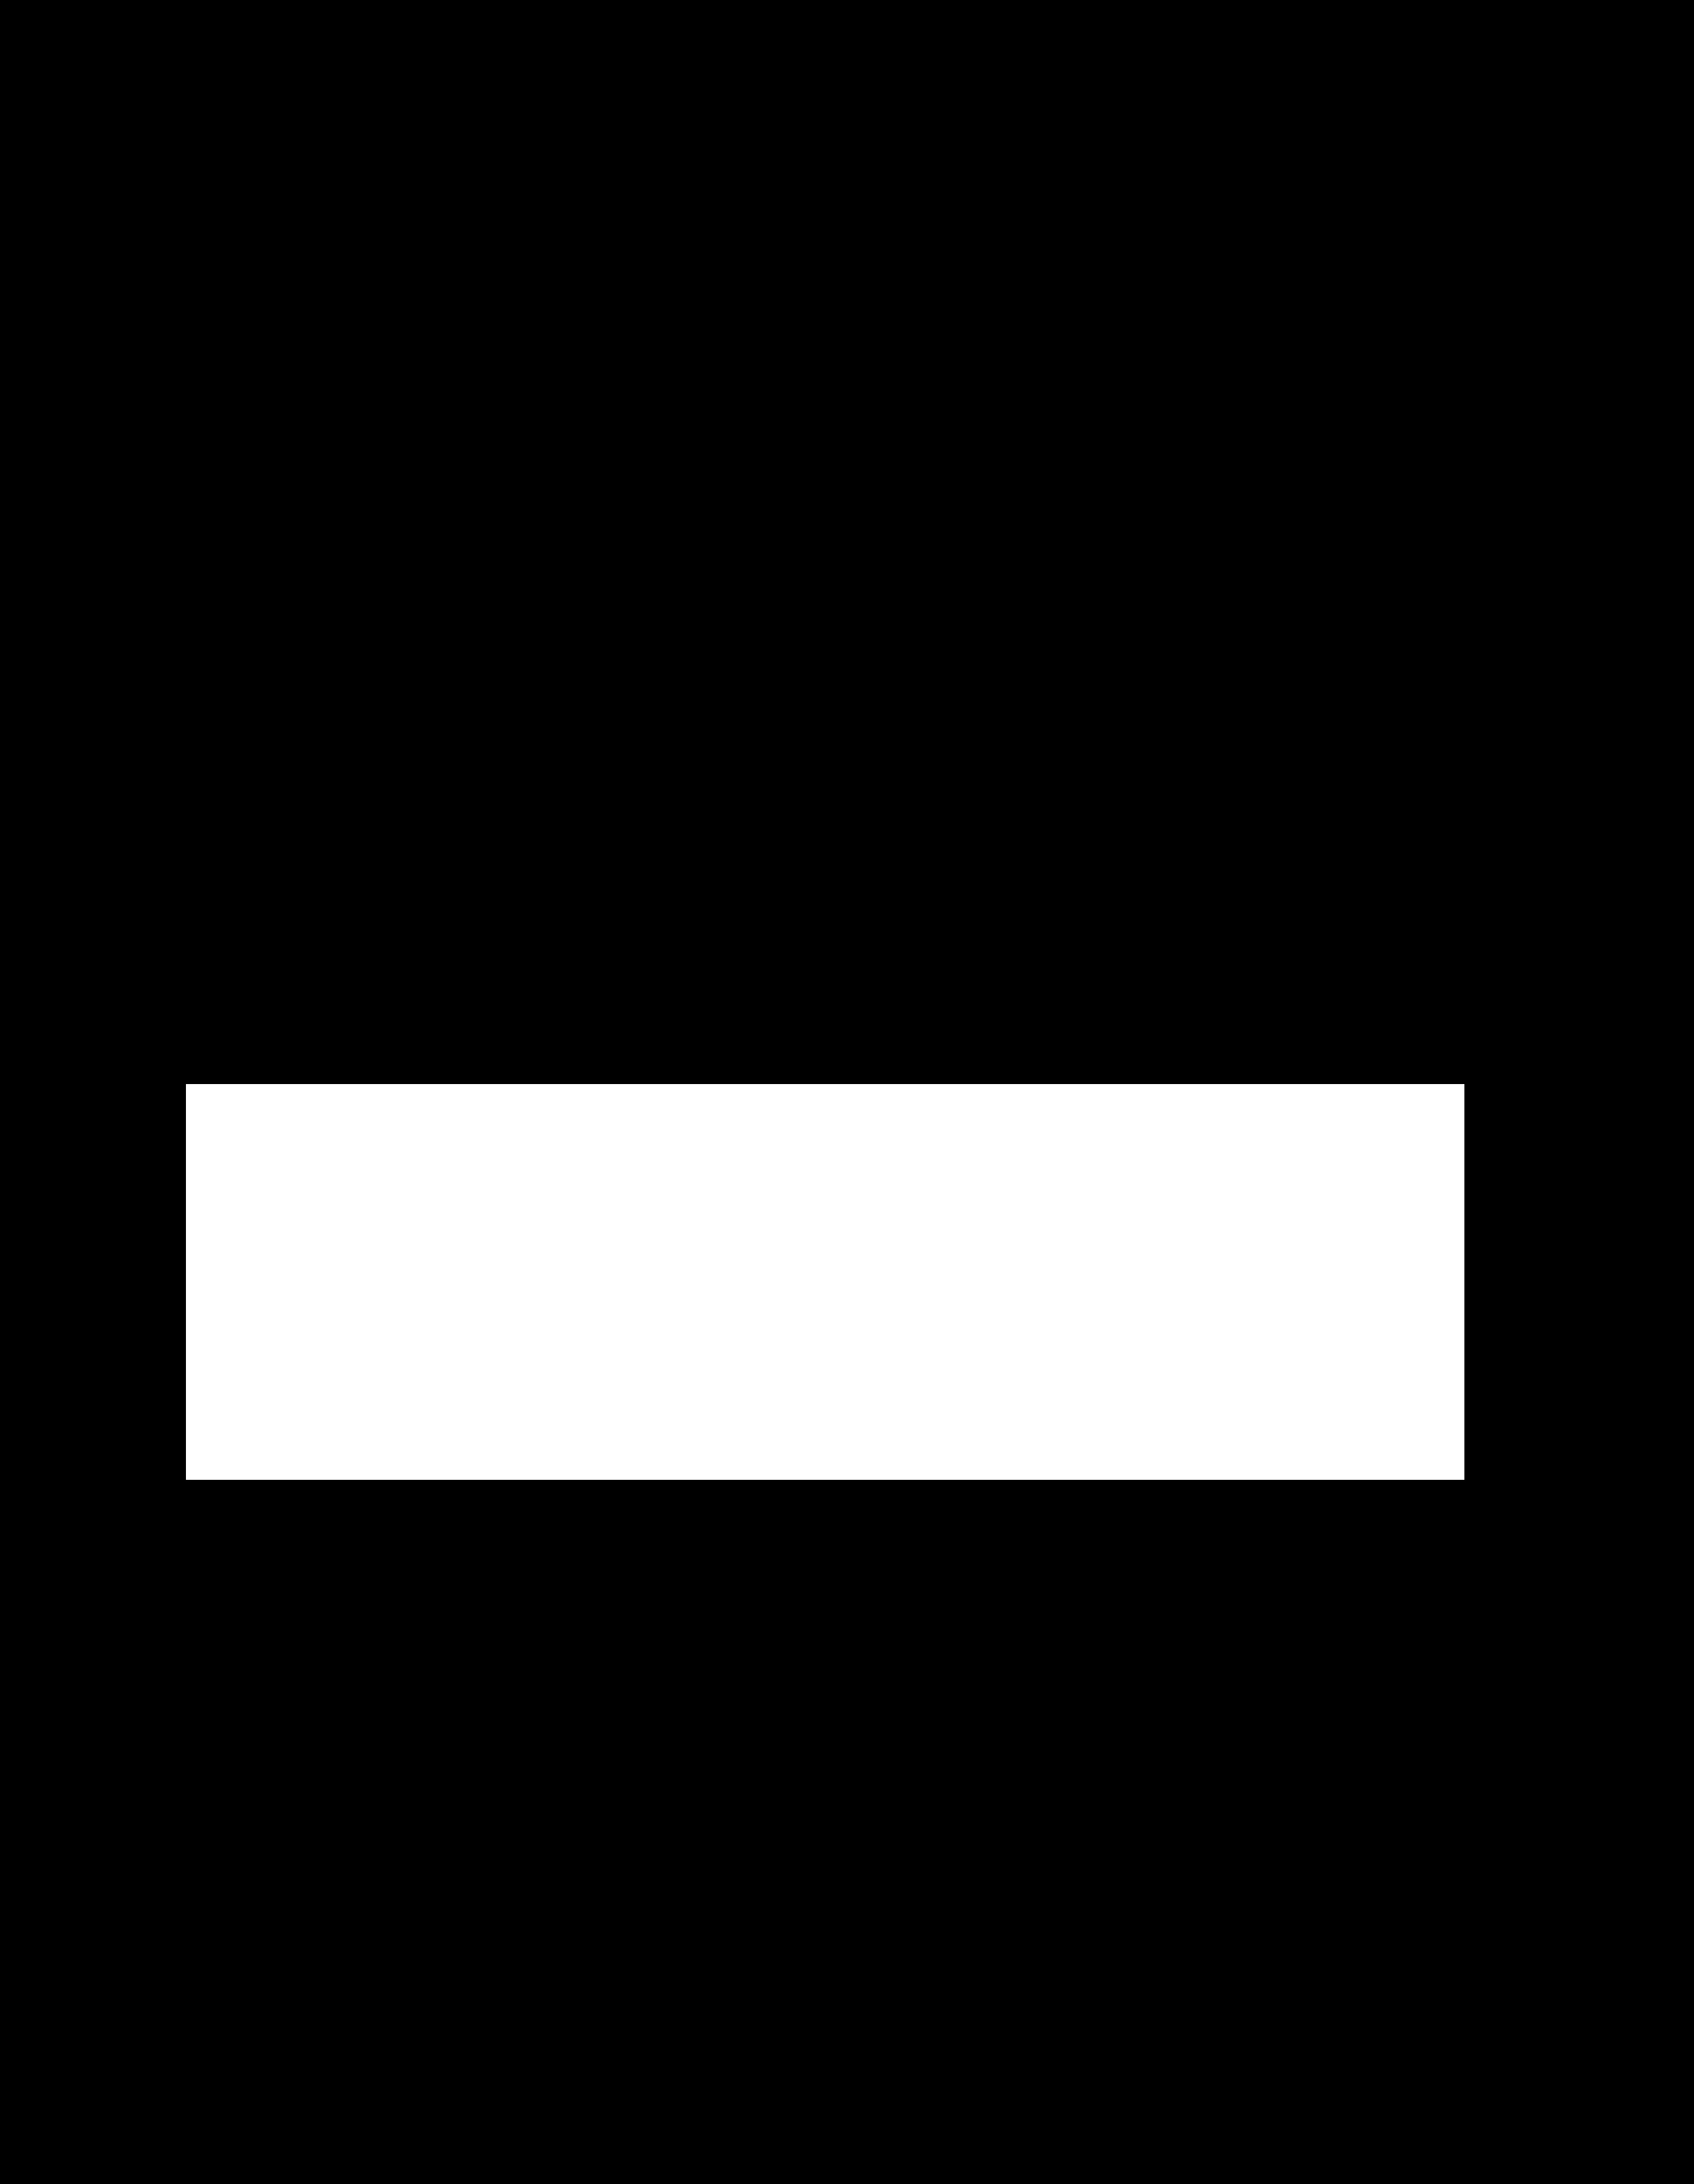table: (186, 1085, 1464, 1478)
